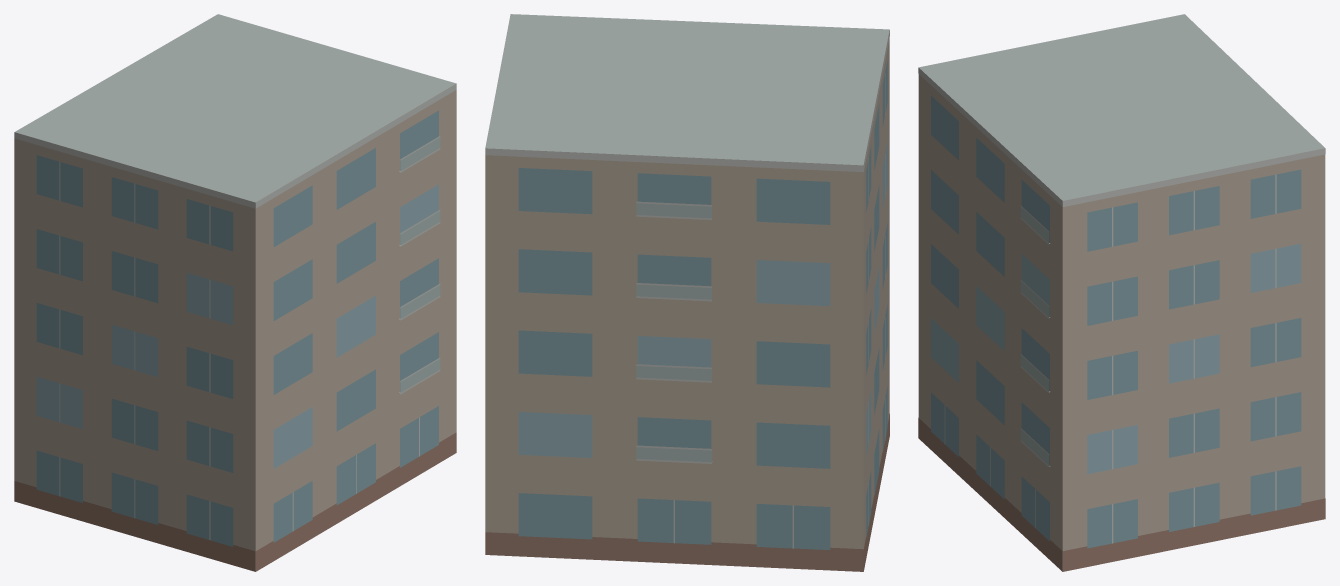
File: survey-upis-32998271.glb
The picture shows the model from 3 angles, left to right: view 1: azimuth 30°, elevation 25°; view 2: azimuth 150°, elevation 25°; view 3: azimuth 270°, elevation 25°; orthographic projection. The views are drawn at different scales.
Visible parts, largest first — view 1: survey-upis-32998271.tmp; view 2: survey-upis-32998271.tmp; view 3: survey-upis-32998271.tmp.
Part boxes in pixels (x1,y1,x2,y2): survey-upis-32998271.tmp: [14, 14, 456, 571]; survey-upis-32998271.tmp: [485, 14, 889, 571]; survey-upis-32998271.tmp: [918, 14, 1325, 571].
Bounding box in the file's own units: 15.79 × 14.6 × 14.53.
